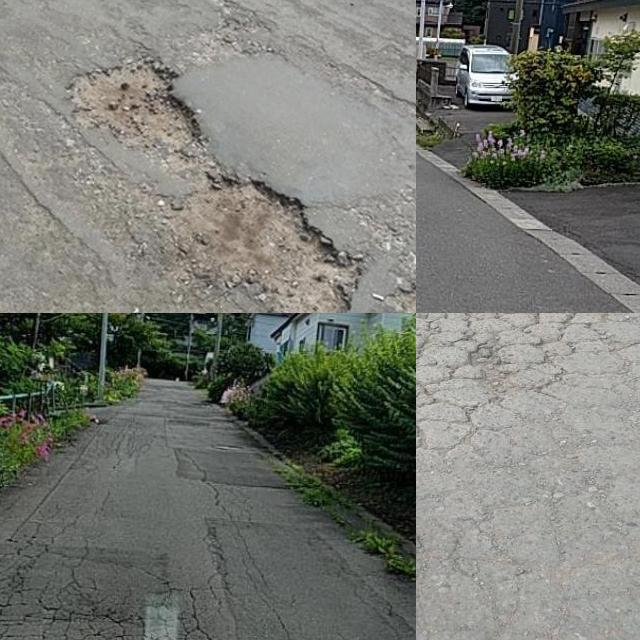Lubang: (185, 181, 347, 313), (71, 64, 194, 149)
Retak Buaya: (416, 313, 640, 455), (0, 542, 226, 640)
